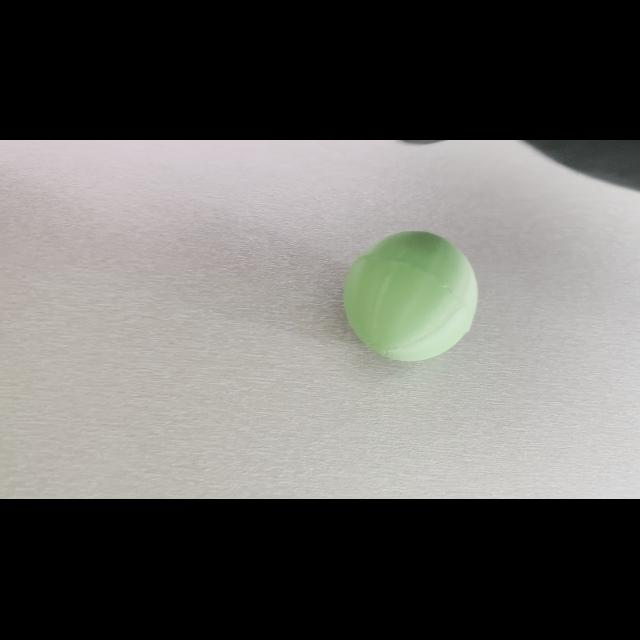objects: (338, 224, 484, 370)
